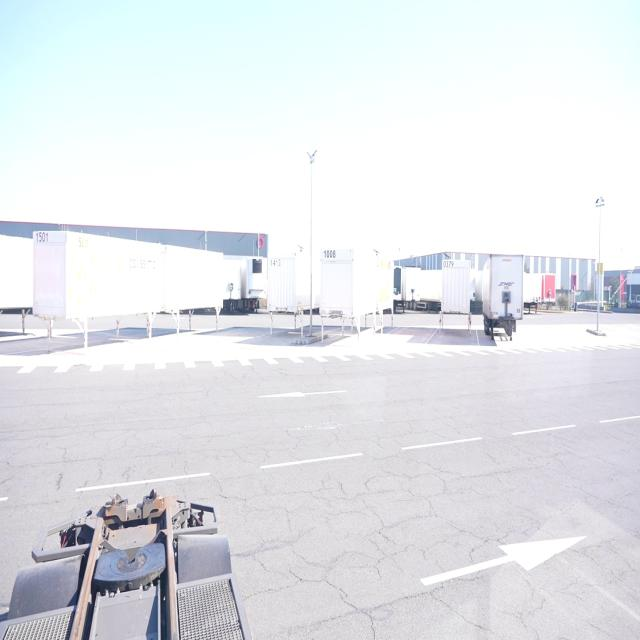Code: (32, 227, 53, 249), (441, 256, 462, 276), (318, 246, 339, 261), (268, 256, 285, 270)
